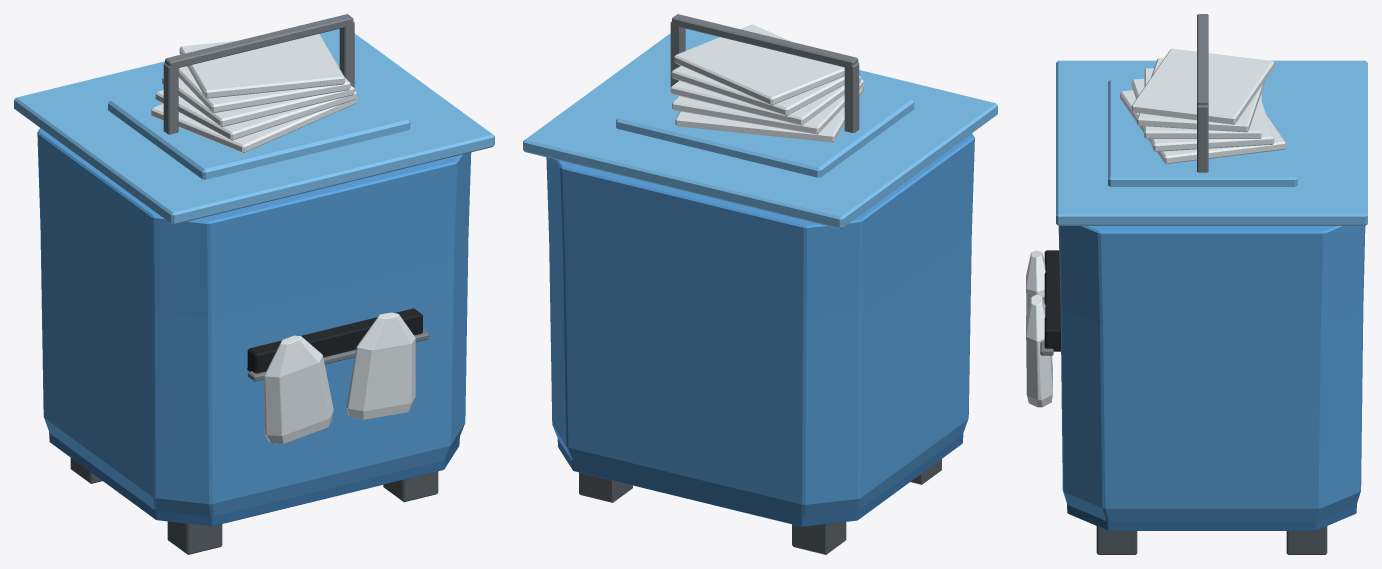
Rendered from dispensador.glb.
The picture shows the model from 3 angles, left to right: view 1: azimuth 30°, elevation 25°; view 2: azimuth 150°, elevation 25°; view 3: azimuth 270°, elevation 25°; orthographic projection. The views are drawn at different scales.
Parts seen in each view (by area): view 1: cuerpo, techo, bandeja, pila.004, bolsa0, bolsa1, faldon, ranura, barra, pila, pila.001, pila.002 (+5 smaller); view 2: cuerpo, techo, bandeja, pila.004, faldon, barra, pila.001, pila, pila.002, pila.003, pata.001, barra_pie (+2 smaller); view 3: cuerpo, techo, bandeja, pila.004, faldon, bolsa1, pila, ranura, pila.001, pila.003, pila.002, barra (+4 smaller).
Boxes of the visible parts, <box> form: cuerpo: <box>37,128,471,516</box>; techo: <box>14,29,494,224</box>; bandeja: <box>108,81,410,179</box>; pila.004: <box>179,33,344,98</box>; bolsa0: <box>264,335,333,443</box>; bolsa1: <box>346,312,415,419</box>; faldon: <box>49,432,459,526</box>; ranura: <box>247,308,422,373</box>; barra: <box>165,14,353,69</box>; pila: <box>151,97,357,153</box>; pila.001: <box>155,90,356,140</box>; pila.002: <box>162,76,354,126</box>; cuerpo: <box>546,133,974,517</box>; techo: <box>523,29,997,228</box>; bandeja: <box>616,80,914,177</box>; pila.004: <box>674,24,844,105</box>; faldon: <box>557,434,963,526</box>; barra: <box>672,14,858,68</box>; pila.001: <box>672,79,863,134</box>; pila: <box>675,85,864,142</box>; pila.002: <box>670,76,860,125</box>; pila.003: <box>671,66,844,115</box>; pata.001: <box>792,522,846,554</box>; barra_pie: <box>844,62,859,132</box>; cuerpo: <box>1058,226,1365,521</box>; techo: <box>1056,60,1367,225</box>; bandeja: <box>1108,79,1297,186</box>; pila.004: <box>1131,48,1274,124</box>; faldon: <box>1067,503,1356,530</box>; bolsa1: <box>1026,294,1052,407</box>; pila: <box>1120,90,1285,164</box>; ranura: <box>1044,250,1060,351</box>; pila.001: <box>1131,78,1274,151</box>; pila.003: <box>1137,58,1265,132</box>; pila.002: <box>1144,68,1261,138</box>; barra: <box>1197,14,1208,105</box>.
Size of the model in its own units: 0.81 by 1.07 by 0.7563.
